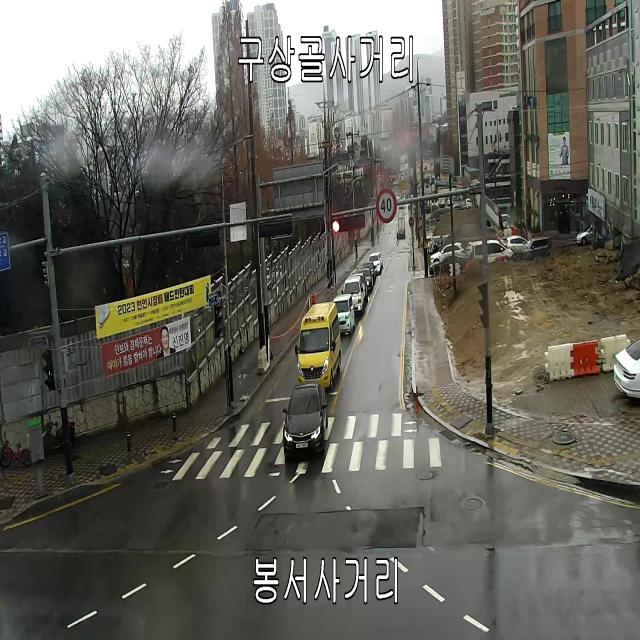Car: (295, 302, 341, 392), (282, 383, 328, 457), (613, 336, 640, 399), (472, 240, 514, 263), (332, 294, 354, 334), (429, 253, 467, 276), (430, 243, 466, 265), (576, 223, 603, 245), (524, 235, 552, 255), (352, 273, 368, 301), (504, 235, 529, 251), (426, 208, 450, 223), (359, 268, 373, 291), (466, 240, 482, 259), (366, 254, 381, 273), (362, 262, 376, 282), (454, 198, 472, 208), (398, 218, 406, 238), (374, 252, 383, 268), (437, 197, 445, 207), (425, 205, 431, 212), (448, 197, 453, 205)
Truck: (342, 276, 365, 312)
